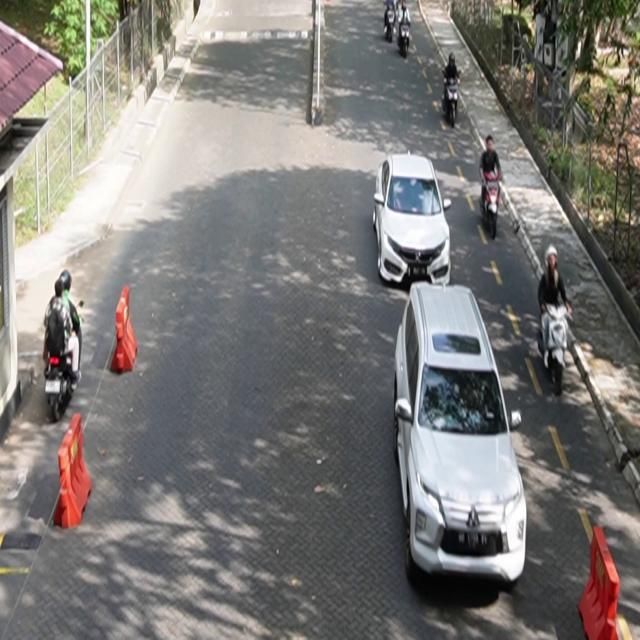car: (393, 281, 528, 588), (373, 151, 453, 287)
